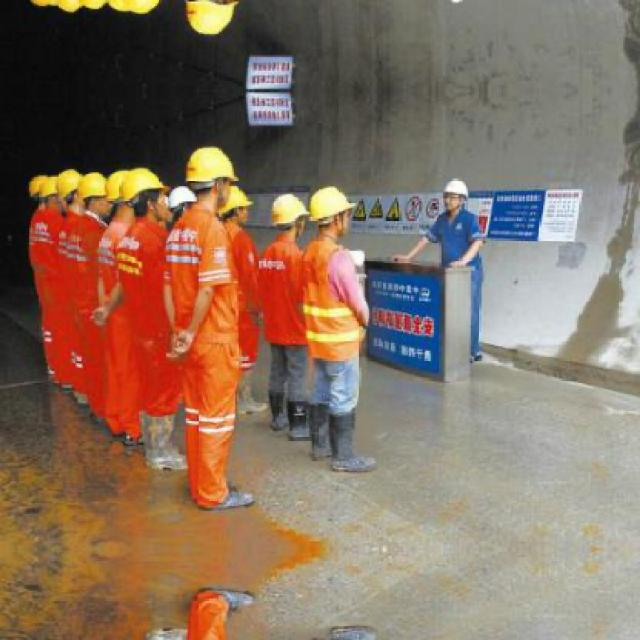helmet: (186, 143, 239, 208), (306, 182, 356, 242), (121, 166, 168, 226), (184, 0, 238, 37), (269, 192, 305, 237), (220, 185, 252, 232), (161, 183, 197, 222), (78, 171, 108, 217), (440, 172, 472, 211), (57, 163, 80, 214), (42, 175, 63, 208), (120, 0, 168, 14), (28, 170, 42, 204), (57, 0, 81, 17), (78, 0, 110, 9), (440, 0, 474, 8), (28, 0, 43, 9)
